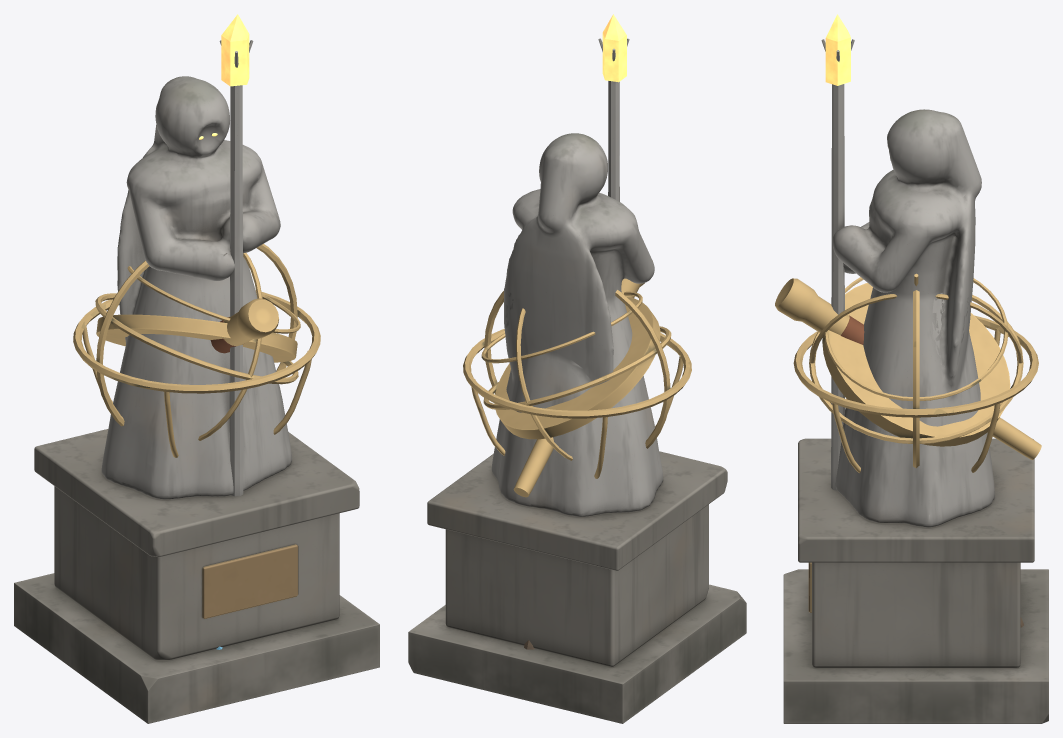
The model's file is Arcana.gltf.
3 views of the same model, side by side, from view 1: azimuth 30°, elevation 25°; view 2: azimuth 150°, elevation 25°; view 3: azimuth 270°, elevation 25° (orthographic). The views are drawn at different scales.
Parts seen in each view (by area): view 1: Statue, Armillary, Telescope; view 2: Statue, Armillary, Telescope; view 3: Statue, Armillary, Telescope.
Boxes of the visible parts, box(x1,y1,x2,y2) form: Statue: box(14, 14, 379, 723); Armillary: box(73, 244, 320, 457); Telescope: box(210, 298, 278, 353); Statue: box(408, 14, 746, 723); Armillary: box(463, 290, 691, 478); Telescope: box(513, 278, 644, 649); Statue: box(783, 14, 1048, 723); Armillary: box(793, 273, 1038, 472); Telescope: box(775, 278, 1041, 627).
Bounding box in the file's own units: 1.12 × 3.09 × 1.16.
11 materials, 11 textured.
